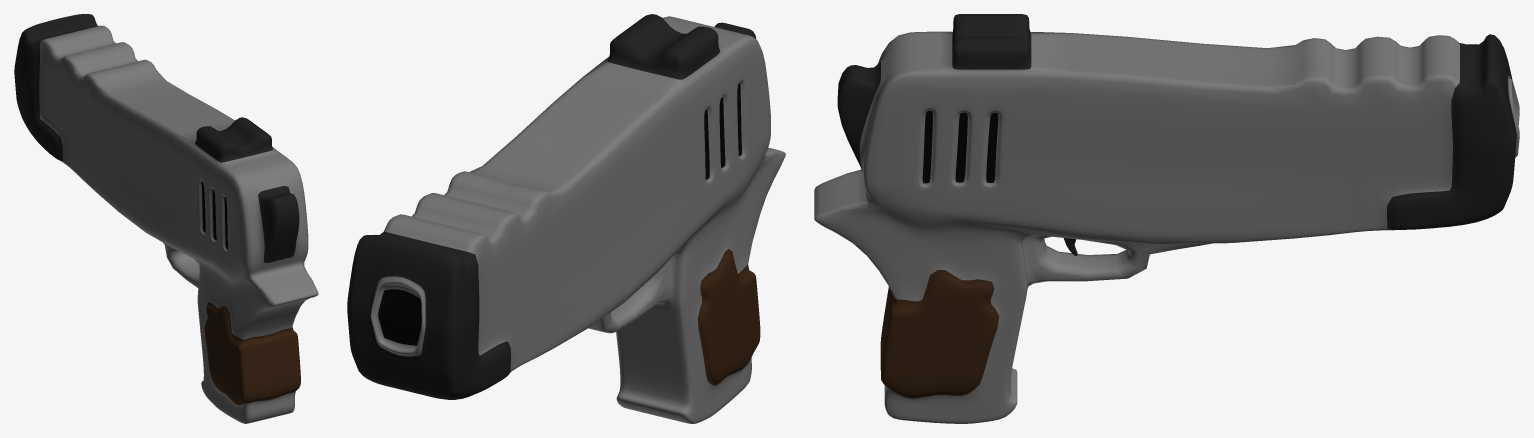
Rendered from Pistola.fbx.
3 views of the same model, side by side, from view 1: azimuth 30°, elevation 25°; view 2: azimuth 150°, elevation 25°; view 3: azimuth 270°, elevation 25° (orthographic). The views are drawn at different scales.
Parts seen in each view (by area): view 1: Arma; view 2: Arma; view 3: Arma.
Boxes of the visible parts, <box> form: Arma: <box>14,14,318,423</box>; Arma: <box>347,14,785,423</box>; Arma: <box>814,14,1519,423</box>.
Bounding box in the file's own units: 18.77 × 61.82 × 104.
